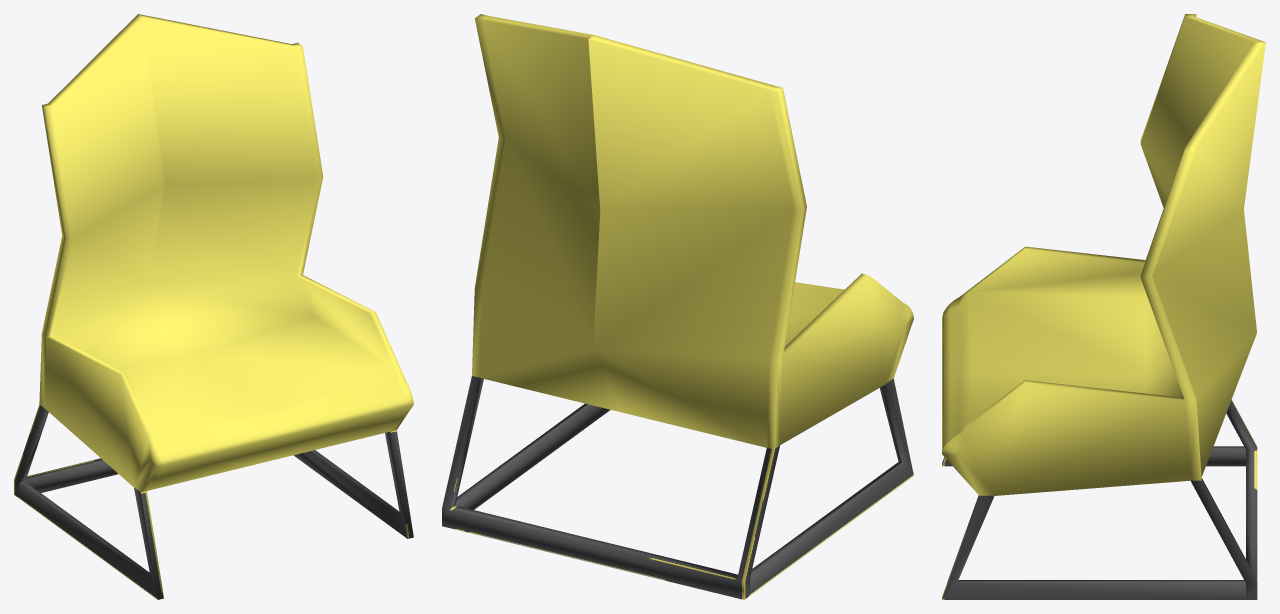
The model's file is chair.fbx.
3 views of the same model, side by side, from view 1: azimuth 30°, elevation 25°; view 2: azimuth 150°, elevation 25°; view 3: azimuth 270°, elevation 25° (orthographic). The views are drawn at different scales.
Parts seen in each view (by area): view 1: Chair; view 2: Chair; view 3: Chair.
Boxes of the visible parts, bbox=[...] form: Chair: bbox=[14, 14, 413, 599]; Chair: bbox=[442, 14, 913, 599]; Chair: bbox=[942, 14, 1265, 599].
Bounding box in the file's own units: 0.6 × 1 × 0.6.
1 material, 1 textured.
